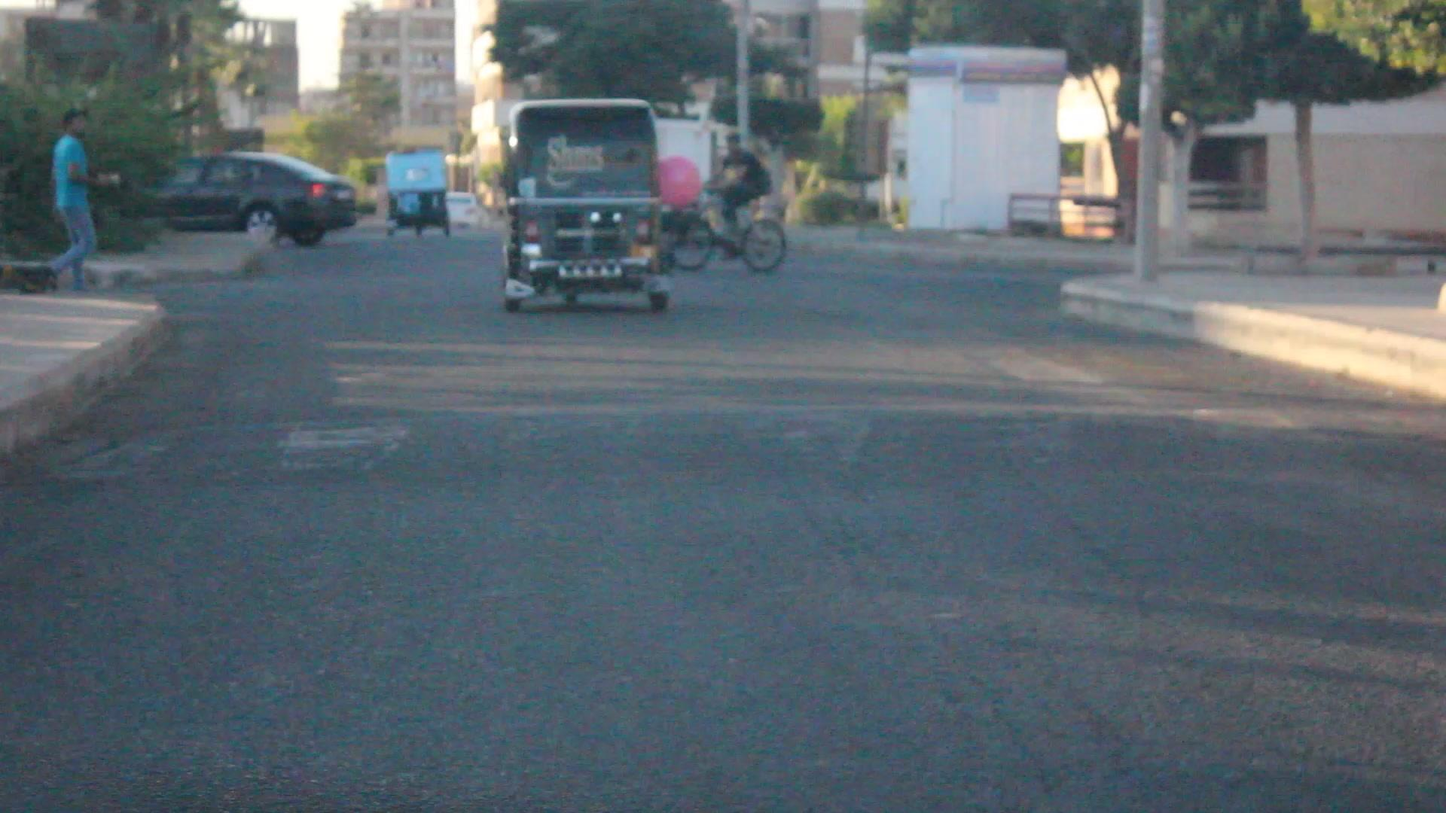Bump: (70, 405, 1446, 482)
